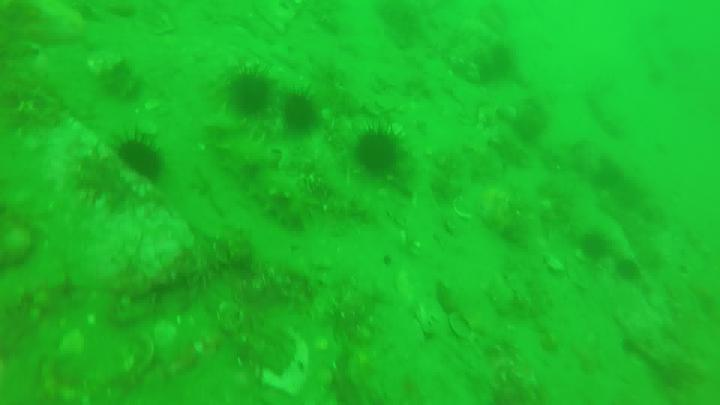echinus: (112, 129, 168, 181), (357, 124, 396, 176), (232, 69, 270, 115), (284, 93, 314, 132), (585, 238, 608, 262), (617, 263, 640, 281)
holothurian: (206, 106, 319, 232), (131, 231, 259, 285), (335, 281, 395, 331)
scallop: (217, 303, 246, 336), (446, 310, 476, 341)
